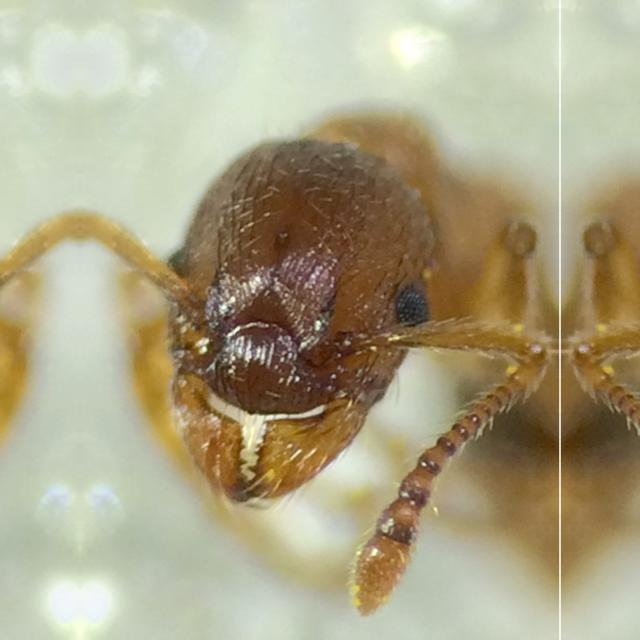Myrmica: (99, 48, 559, 640)
